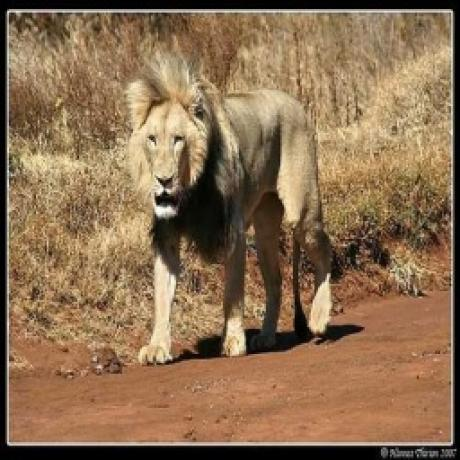Lion: (125, 51, 336, 366)
